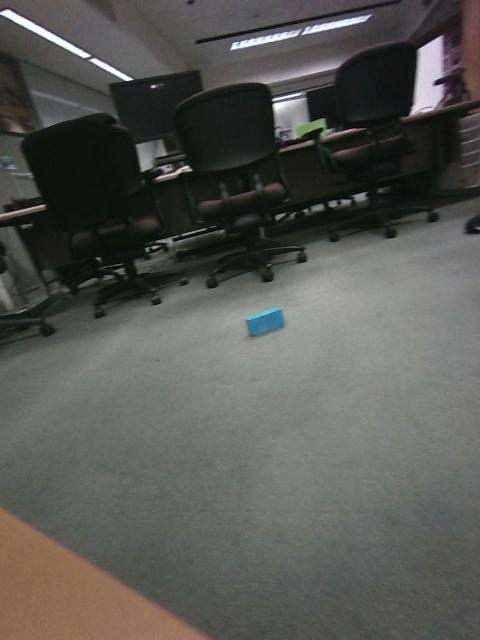block: (362, 251, 400, 280)
